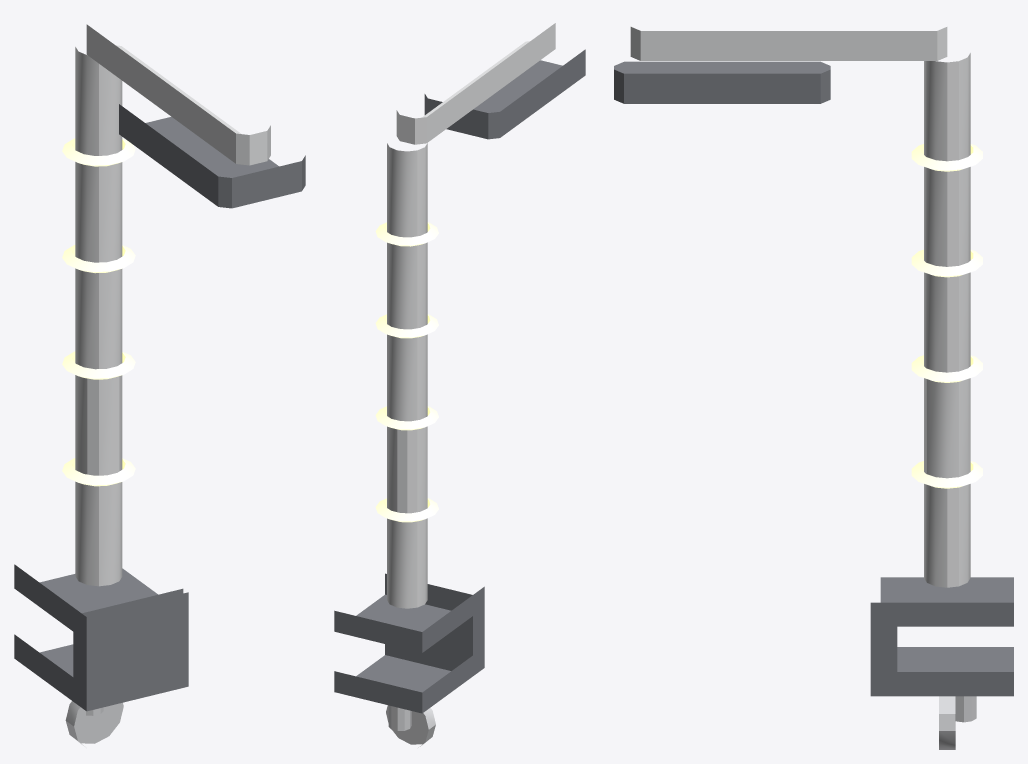
The model's file is iter_04.glb.
3 views of the same model, side by side, from view 1: azimuth 30°, elevation 25°; view 2: azimuth 150°, elevation 25°; view 3: azimuth 270°, elevation 25° (orthographic). The views are drawn at different scales.
Visible parts, largest first — view 1: Column, Clamp, Bar_Light, Bar_Arm, Latch_Lights, Clamp_Screw; view 2: Column, Clamp, Bar_Light, Bar_Arm, Latch_Lights, Clamp_Screw; view 3: Column, Clamp, Bar_Arm, Bar_Light, Latch_Lights, Clamp_Screw.
Boxes of the visible parts, x1=… form: Column: x1=75, y1=47, x2=122, y2=586; Clamp: x1=14, y1=564, x2=188, y2=711; Bar_Light: x1=119, y1=104, x2=305, y2=208; Bar_Arm: x1=86, y1=24, x2=270, y2=165; Latch_Lights: x1=62, y1=138, x2=135, y2=486; Clamp_Screw: x1=65, y1=701, x2=123, y2=746; Column: x1=387, y1=143, x2=427, y2=608; Clamp: x1=334, y1=573, x2=484, y2=713; Bar_Light: x1=424, y1=49, x2=585, y2=139; Bar_Arm: x1=396, y1=23, x2=555, y2=144; Latch_Lights: x1=375, y1=222, x2=438, y2=522; Clamp_Screw: x1=386, y1=705, x2=435, y2=747; Column: x1=924, y1=53, x2=970, y2=587; Clamp: x1=870, y1=577, x2=1013, y2=696; Bar_Arm: x1=630, y1=27, x2=947, y2=60; Bar_Light: x1=614, y1=61, x2=830, y2=103; Latch_Lights: x1=911, y1=144, x2=982, y2=488; Clamp_Screw: x1=939, y1=696, x2=976, y2=749.
Size of the model in its own units: 0.07 by 0.48 by 0.24.
